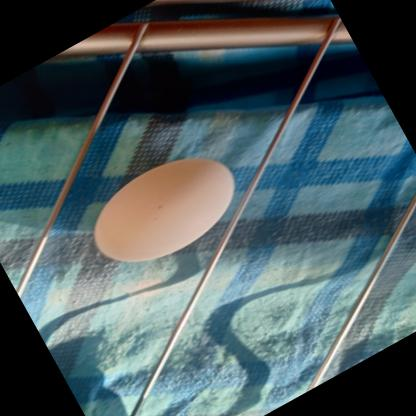Tabel Tennis: (75, 130, 259, 286)
